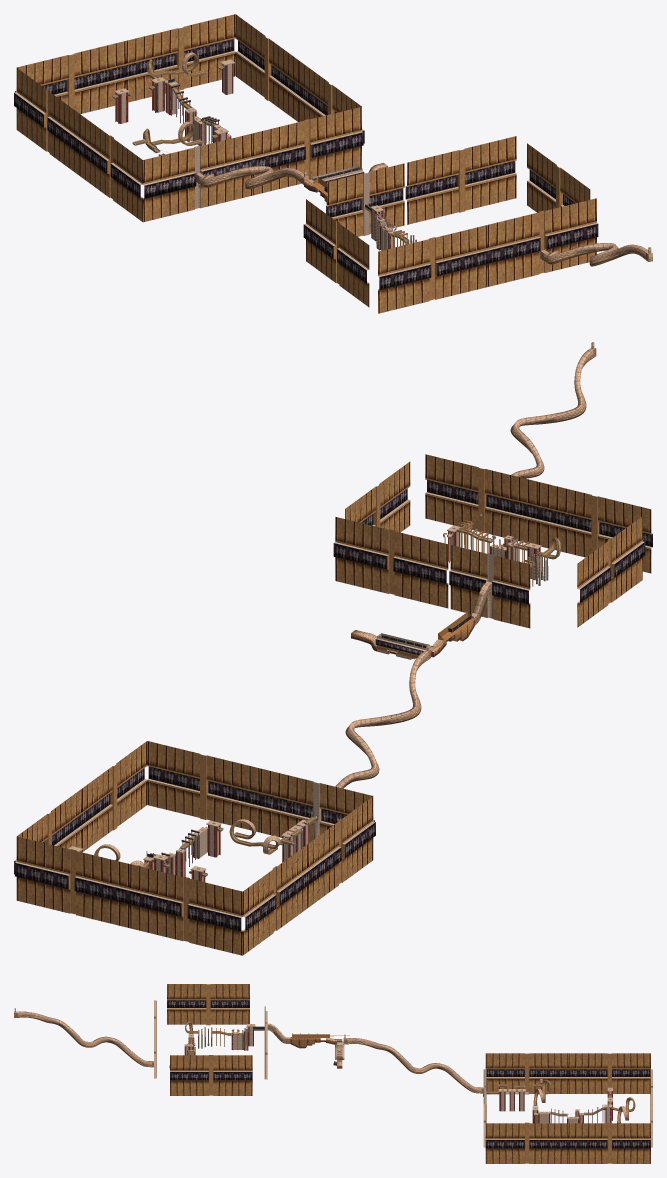
The model's file is PyramidCave.obj.
The picture shows the model from 3 angles, top to bottom: view 1: azimuth 30°, elevation 25°; view 2: azimuth 150°, elevation 25°; view 3: azimuth 270°, elevation 25°; orthographic projection. The views are drawn at different scales.
Bounding box in the file's own units: 9715 × 7786 × 34061.
Materials: 33 (33 with a texture image).
